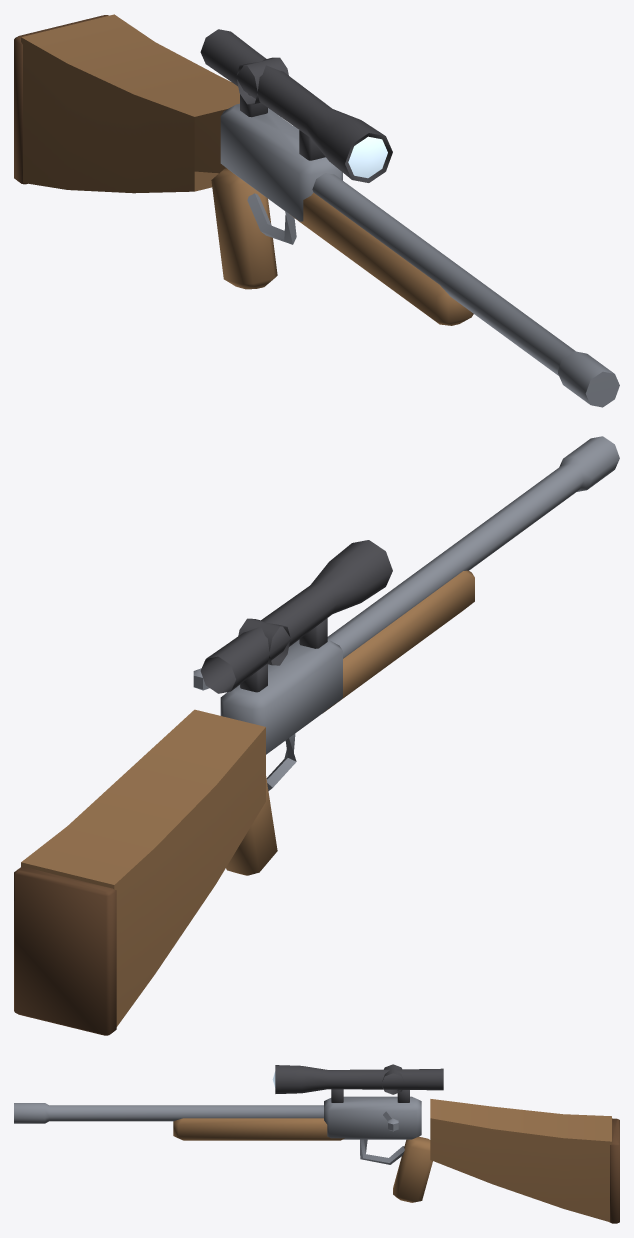
File: rifle-1.glb
3 renders of one model, top to bottom at view 1: azimuth 30°, elevation 25°; view 2: azimuth 150°, elevation 25°; view 3: azimuth 270°, elevation 25°, orthographic. The views are drawn at different scales.
Visible parts, largest first — view 1: rifle-1; view 2: rifle-1; view 3: rifle-1.
Part boxes in pixels (x1,y1,x2,y2): rifle-1: (14, 14, 619, 407); rifle-1: (14, 436, 619, 1035); rifle-1: (14, 1064, 619, 1223).
Size of the model in its own units: 0.0859 by 0.1815 by 0.684.
